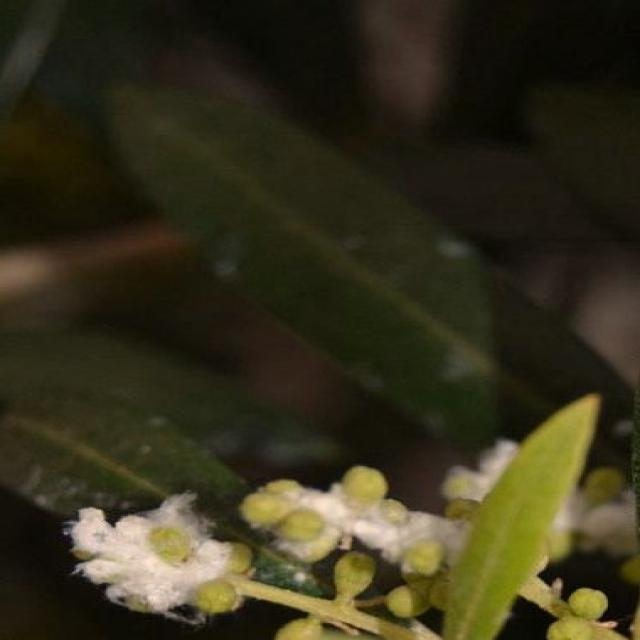Psyllid: (66, 492, 251, 626), (241, 466, 463, 577), (546, 468, 634, 562), (444, 440, 518, 536)
